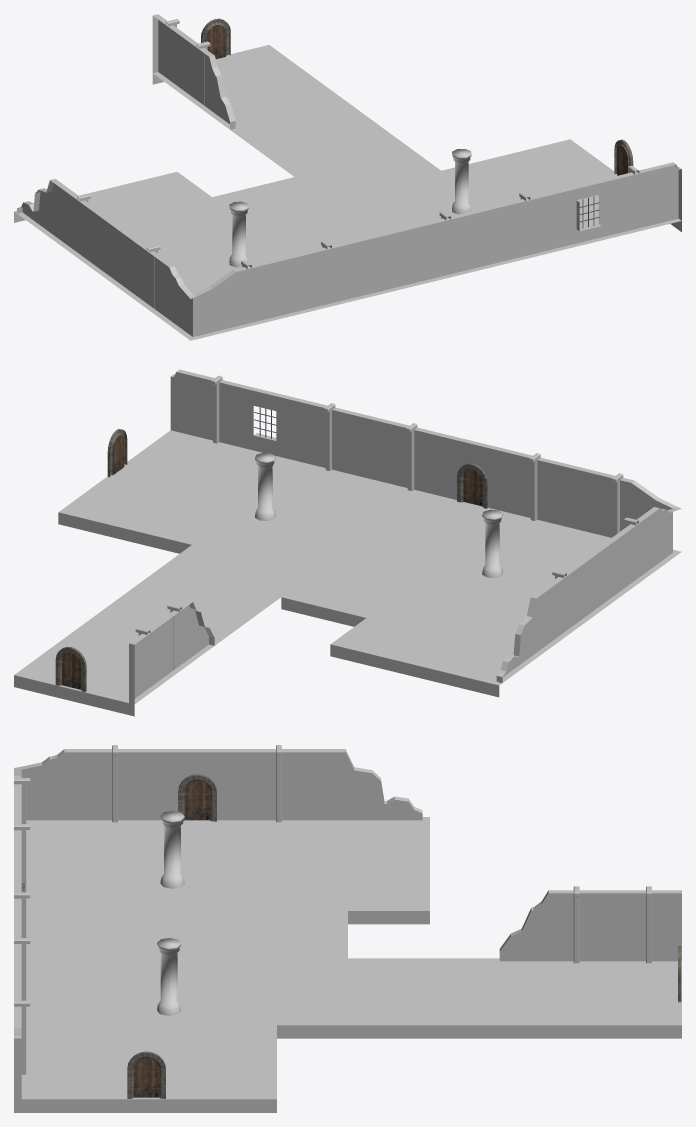
The model's file is def003_room.fbx.
The picture shows the model from 3 angles, top to bottom: view 1: azimuth 30°, elevation 25°; view 2: azimuth 150°, elevation 25°; view 3: azimuth 270°, elevation 25°; orthographic projection. The views are drawn at different scales.
Parts seen in each view (by area): view 1: def003_floor, wall003_3, pillar_002.006, pillar_002.007, def003_door_wood_3; view 2: def003_floor, wall003_3, pillar_002.007, pillar_002.006, def003_door_wood_2, def003_door_wood_3, def003_door_stone_2, def003_door_stone_3, pillar_001.020, pillar_001.021; view 3: def003_floor, wall003_3, pillar_002.006, pillar_002.007, def003_door_wood_4, def003_door_wood_1, def003_door_stone_1, def003_door_stone_4.
Part boxes in pixels (box(x1,y1,x2,y2)): def003_floor: box(14, 45, 681, 340); wall003_3: box(17, 14, 681, 336); pillar_002.006: box(452, 149, 471, 214); pillar_002.007: box(229, 201, 248, 267); def003_door_wood_3: box(207, 25, 225, 59); def003_floor: box(14, 430, 681, 716); wall003_3: box(129, 369, 681, 704); pillar_002.007: box(482, 509, 502, 577); pillar_002.006: box(254, 452, 275, 520); def003_door_wood_2: box(463, 469, 482, 506); def003_door_wood_3: box(62, 652, 80, 689); def003_door_stone_2: box(457, 463, 487, 508); def003_door_stone_3: box(55, 646, 86, 691); pillar_001.020: box(406, 423, 417, 490); pillar_001.021: box(529, 453, 540, 520); def003_floor: box(14, 817, 681, 1112); wall003_3: box(14, 749, 681, 1099); pillar_002.006: box(157, 938, 181, 1015); pillar_002.007: box(160, 811, 184, 888); def003_door_wood_4: box(184, 780, 210, 820); def003_door_wood_1: box(133, 1058, 159, 1097); def003_door_stone_1: box(127, 1051, 165, 1098); def003_door_stone_4: box(178, 774, 216, 821).
Size of the model in its own units: 4450 by 629 by 4450.
